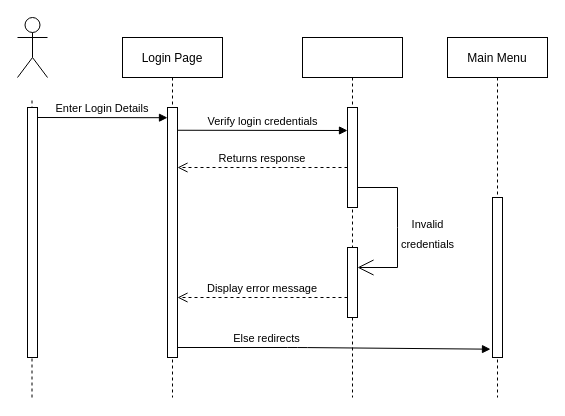
The diagram is 565 pixels wide and 416 high, and some of its shapes have lost their labels. Here are the shapes that lost their labels. From the top down, the centre of each, then its label:
point (32, 47): Actor
point (352, 217): System Server
